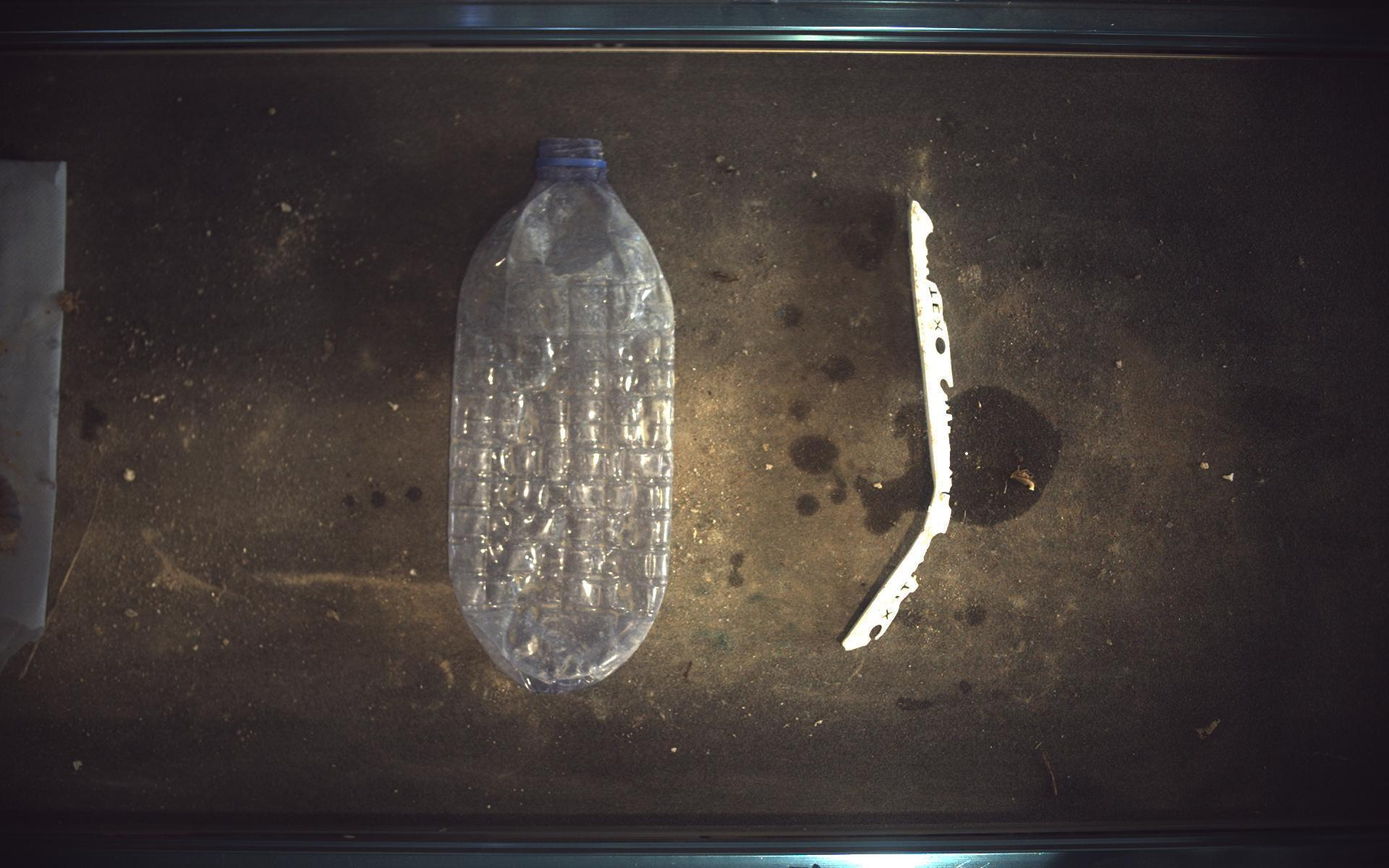general_w: (449, 137, 676, 694)
plastic: (844, 200, 956, 651)
